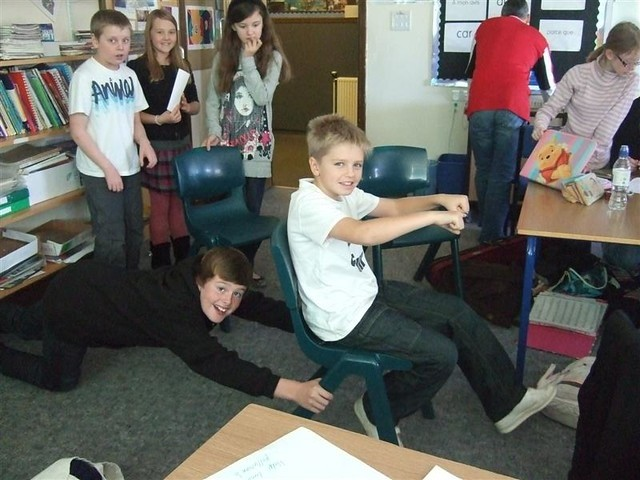face_no_mask: (307, 115, 364, 197), (199, 245, 248, 324), (89, 9, 131, 64), (226, 1, 264, 43), (144, 10, 179, 53)
